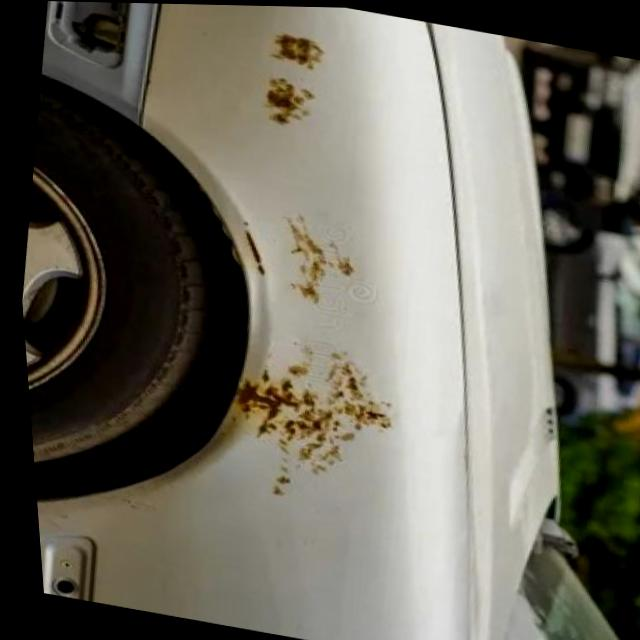Rust: (228, 337, 396, 498), (278, 213, 357, 307), (260, 73, 316, 128), (268, 31, 328, 74), (240, 218, 267, 278)
